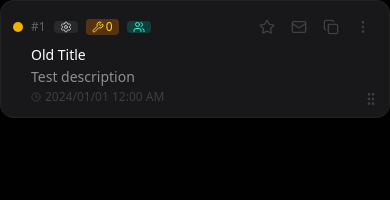
Test: TaskList › Title editing › opens inline title editor from overflow menu
Step 1. Click the button titled "More actions" → (363, 27), box [349, 13, 377, 41]
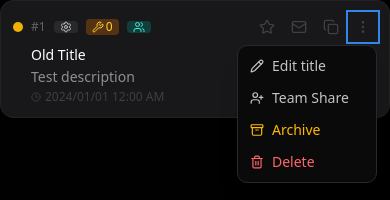
Step 2. Click the button "Edit title" → (307, 66), box [238, 50, 376, 82]
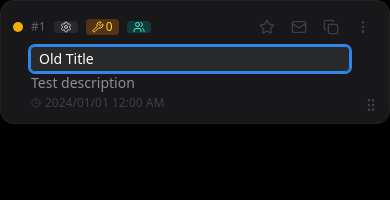
Expected: the field with placeholder "Enter title..." holds "Old Title", [31, 47, 349, 71]
